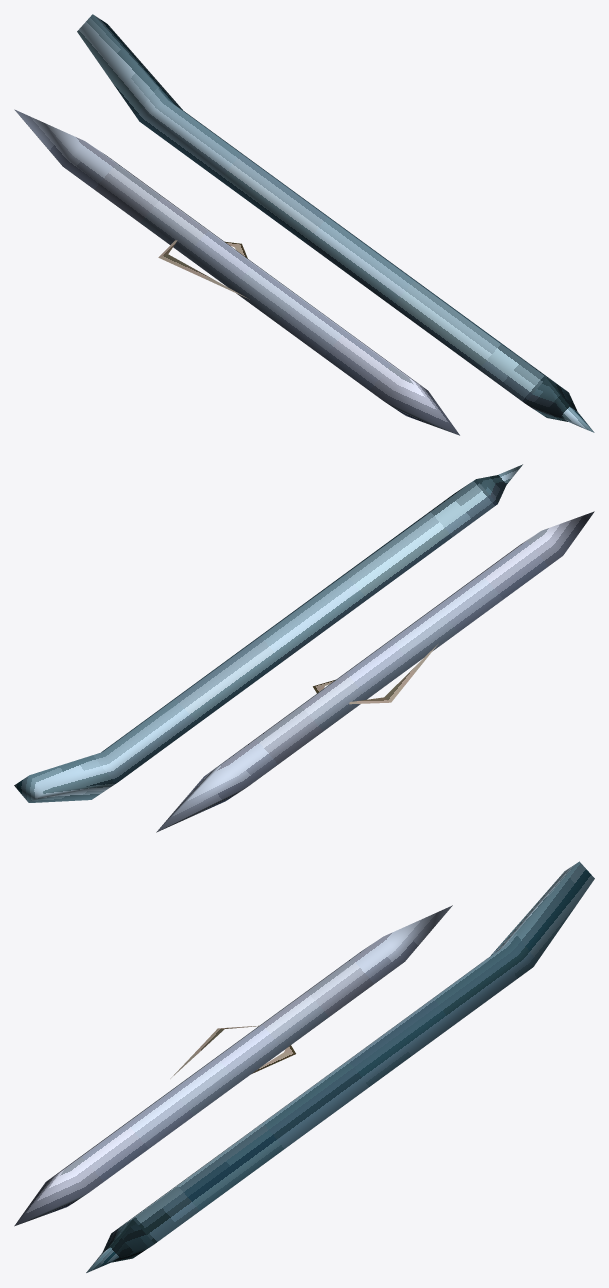
Rendered from eqp_writing_utensils_l2.fbx.
The picture shows the model from 3 angles, top to bottom: view 1: azimuth 30°, elevation 25°; view 2: azimuth 150°, elevation 25°; view 3: azimuth 330°, elevation 25°; orthographic projection.
Parts seen in each view (by area): view 1: mesh_node; view 2: mesh_node; view 3: mesh_node.
Part boxes in pixels (bbox=[...]): mesh_node: bbox=[14, 14, 594, 435]; mesh_node: bbox=[14, 464, 594, 832]; mesh_node: bbox=[14, 861, 594, 1272].
Size of the model in its own units: 0.0499 by 0.0197 by 0.2507.
